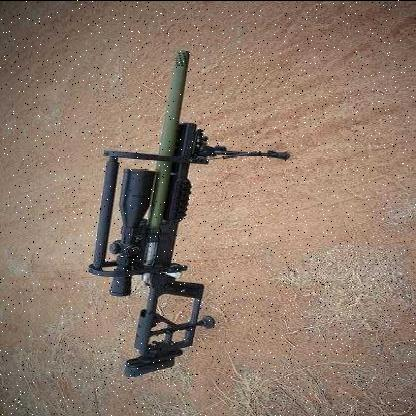rifle: (84, 41, 293, 385)
